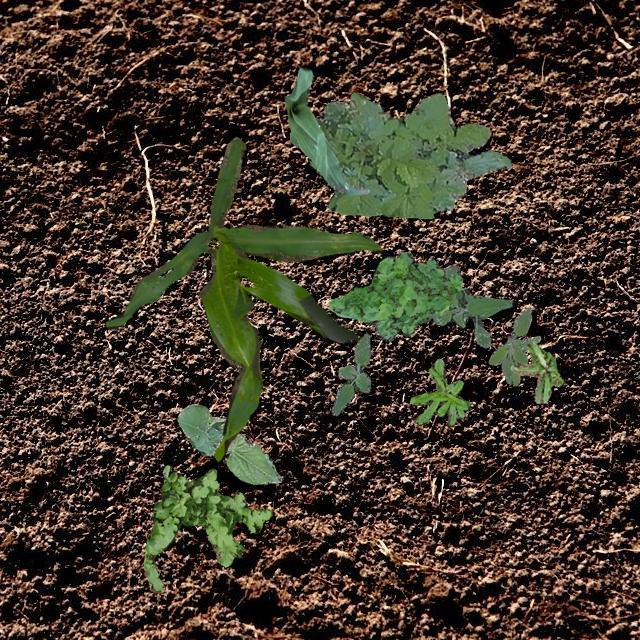crop: (105, 137, 382, 460), (284, 66, 368, 194), (178, 402, 280, 483)
weed: (288, 91, 510, 218), (142, 464, 270, 592), (328, 250, 462, 340), (431, 264, 512, 346), (408, 358, 469, 426), (488, 306, 540, 384), (330, 332, 370, 414), (510, 340, 562, 402)
